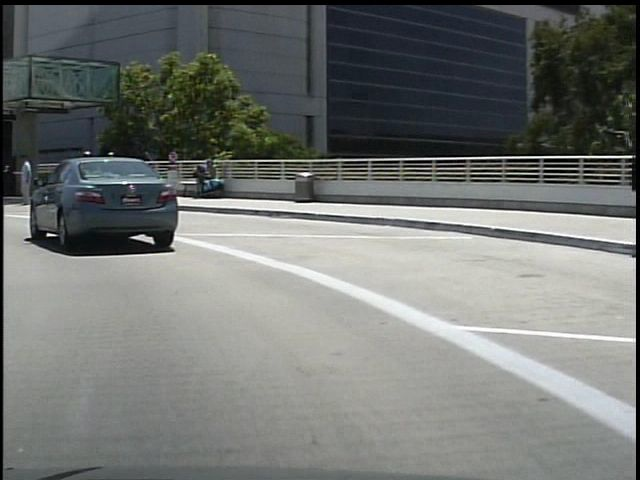person: (99, 148, 121, 202), (13, 152, 34, 207), (73, 147, 94, 200)
